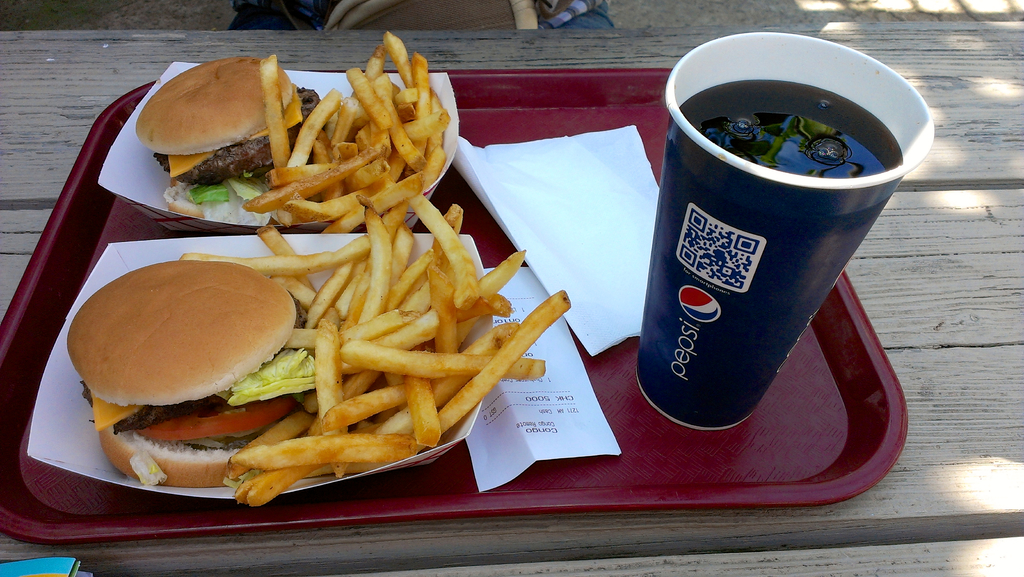French fries: (172, 20, 576, 516)
